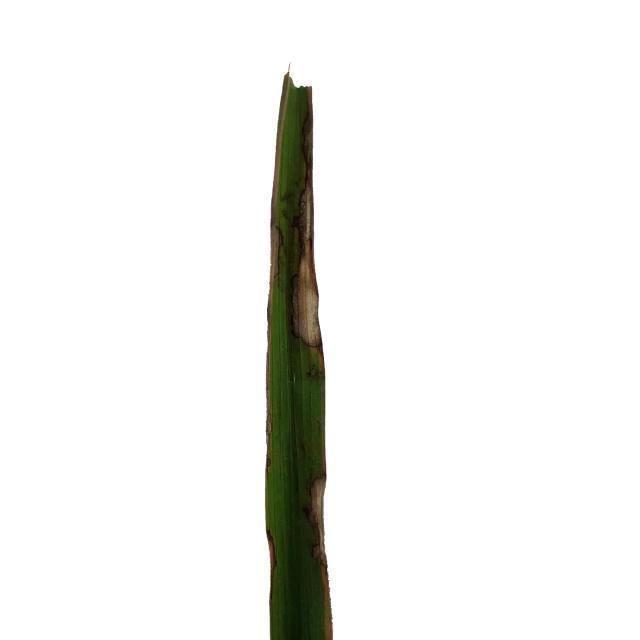Bacterial_Leaf_Blight: (278, 183, 322, 367), (302, 463, 329, 597)
